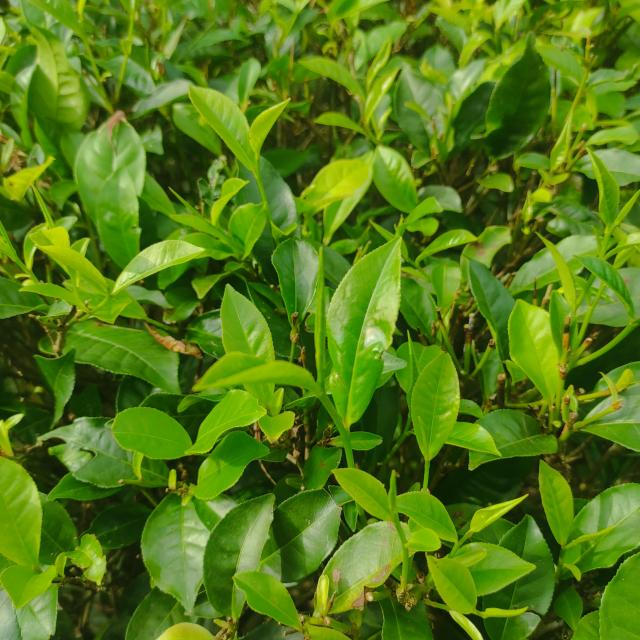unopened_leaf: (302, 240, 334, 392), (560, 516, 626, 556), (162, 179, 212, 218), (27, 174, 59, 230), (608, 186, 640, 232), (384, 464, 407, 527)
